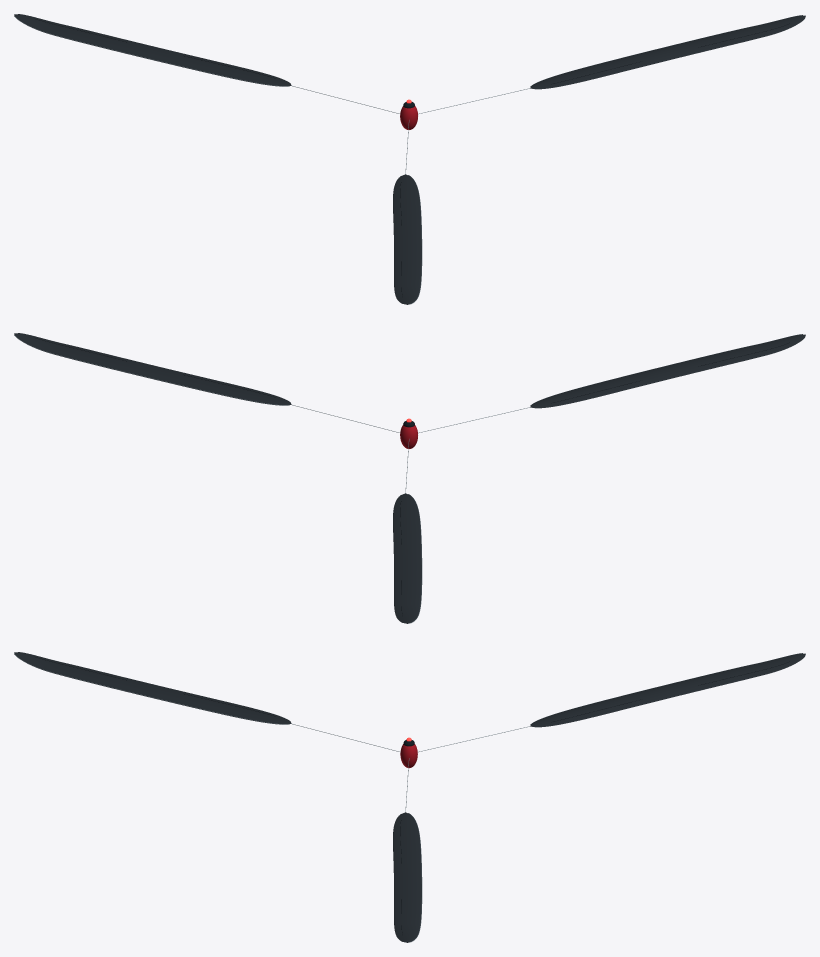
File: x721-three-wing-concept.glb
The picture shows the model from 3 angles, top to bottom: view 1: azimuth 30°, elevation 25°; view 2: azimuth 150°, elevation 25°; view 3: azimuth 270°, elevation 25°; orthographic projection.
Parts seen in each view (by area): view 1: wing_1_shell, wing_2_shell, wing_3_shell; view 2: wing_3_shell, wing_1_shell, wing_2_shell; view 3: wing_2_shell, wing_3_shell, wing_1_shell.
Boxes of the visible parts, x1=… form: wing_1_shell: x1=530, y1=15, x2=805, y2=89; wing_2_shell: x1=14, y1=14, x2=291, y2=86; wing_3_shell: x1=393, y1=174, x2=421, y2=304; wing_3_shell: x1=530, y1=334, x2=805, y2=408; wing_1_shell: x1=14, y1=333, x2=291, y2=405; wing_2_shell: x1=393, y1=493, x2=421, y2=623; wing_2_shell: x1=530, y1=653, x2=805, y2=727; wing_3_shell: x1=14, y1=652, x2=291, y2=724; wing_1_shell: x1=393, y1=812, x2=421, y2=942.
Size of the model in its own units: 4.75 by 0.227 by 5.46.
